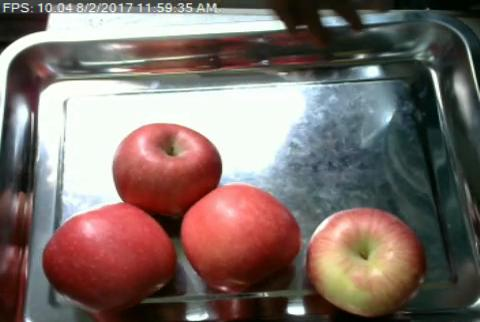apple: (43, 202, 178, 312), (304, 207, 428, 315), (181, 186, 301, 291), (112, 121, 222, 214)
